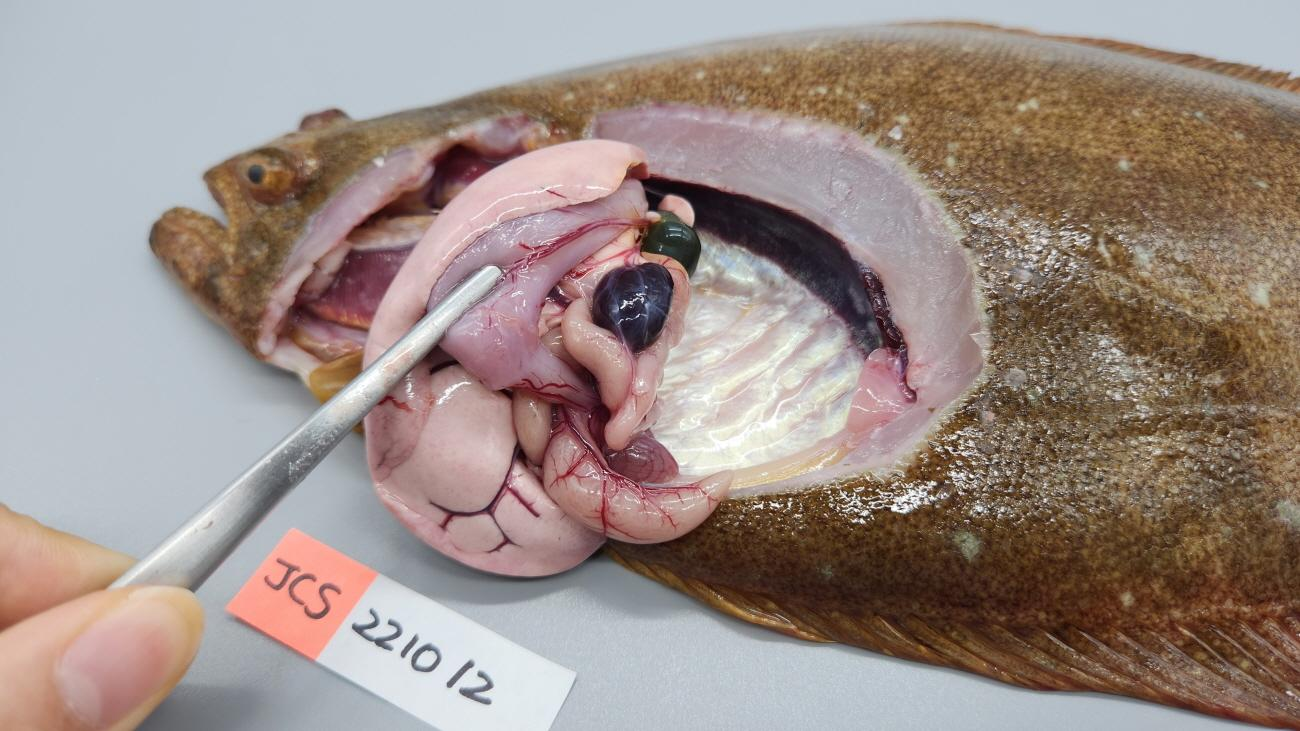VISPE: (596, 265, 667, 351)
